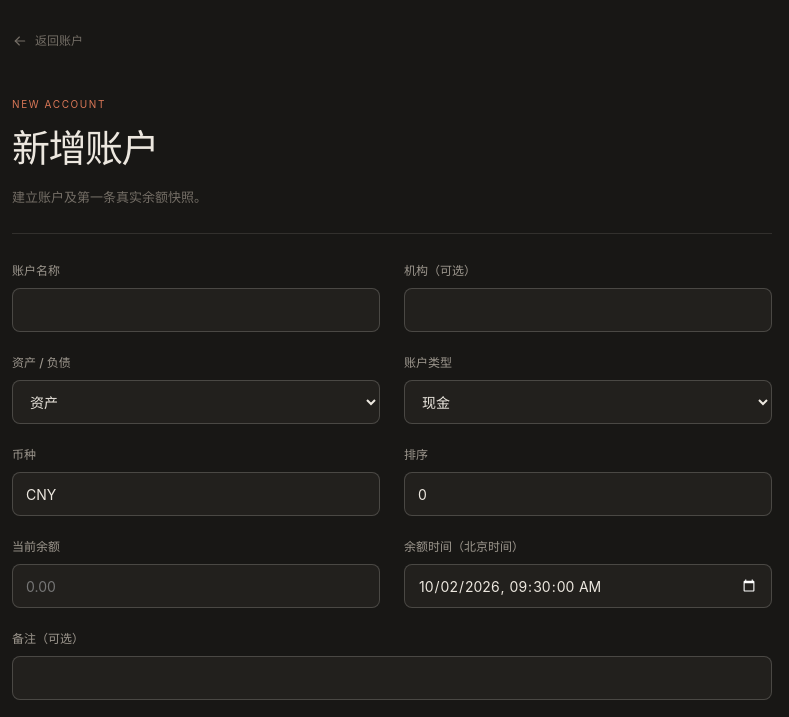
Test: account management UI › catches a rejected create transport and replays the frozen first payload
This screenshot has width=789, height=717.
Type "首次名称" into the field labelled "账户名称" at [196, 310], box [12,288,380,332]
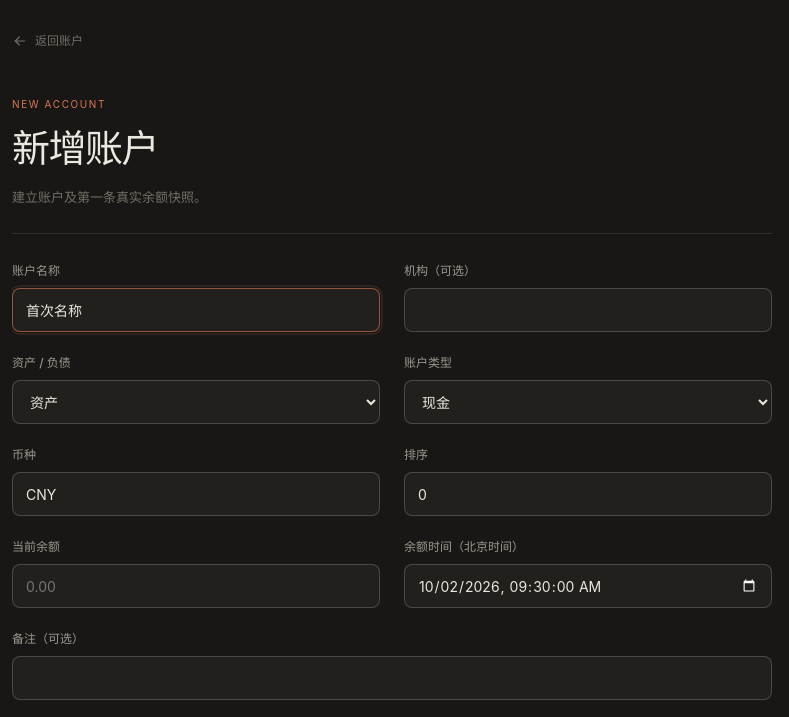
Type "1.23" into the number field labelled "当前余额" at [196, 586], box [12,564,380,608]
(page scrolled)
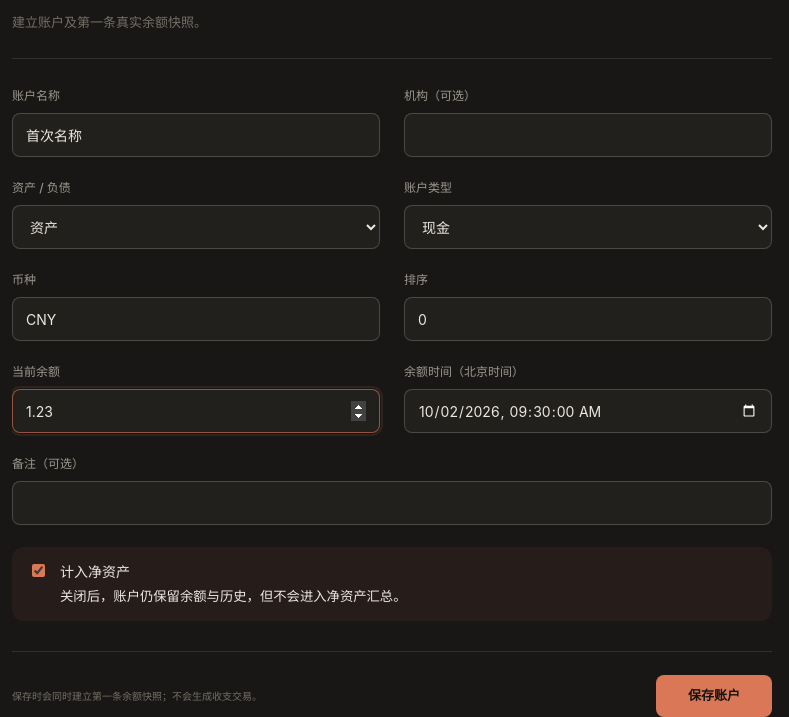
Click the button "保存账户" at [714, 696], box [656,675,772,716]
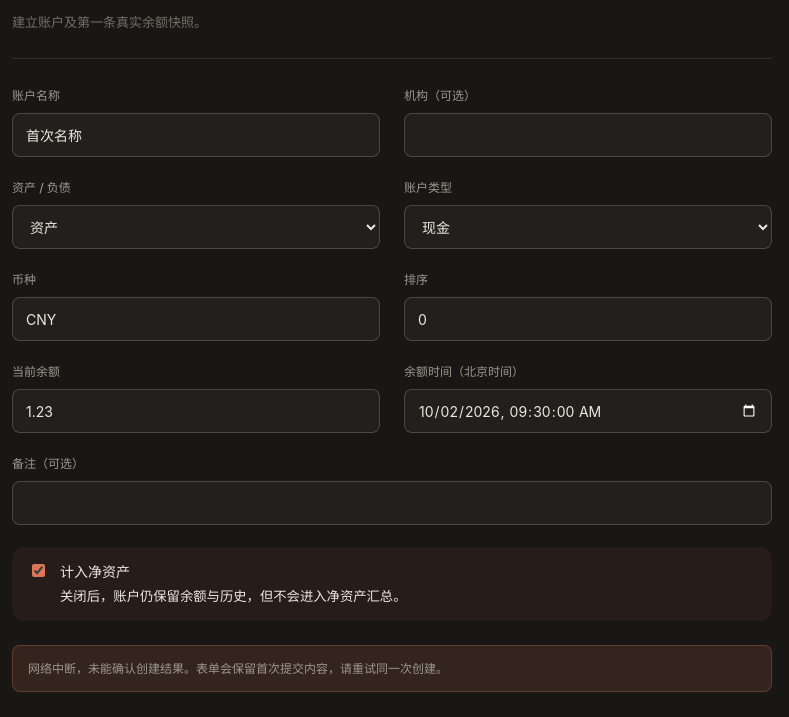
Check: the text "网络中断，未能确认创建结果。表单会保留首次提交内容，请重试同一次创建。" is shown, box [12,645,772,692]
Replace the text in the field labelled "账户名称" with "后来修改" at [196, 135], box [12,113,380,157]
(page scrolled)
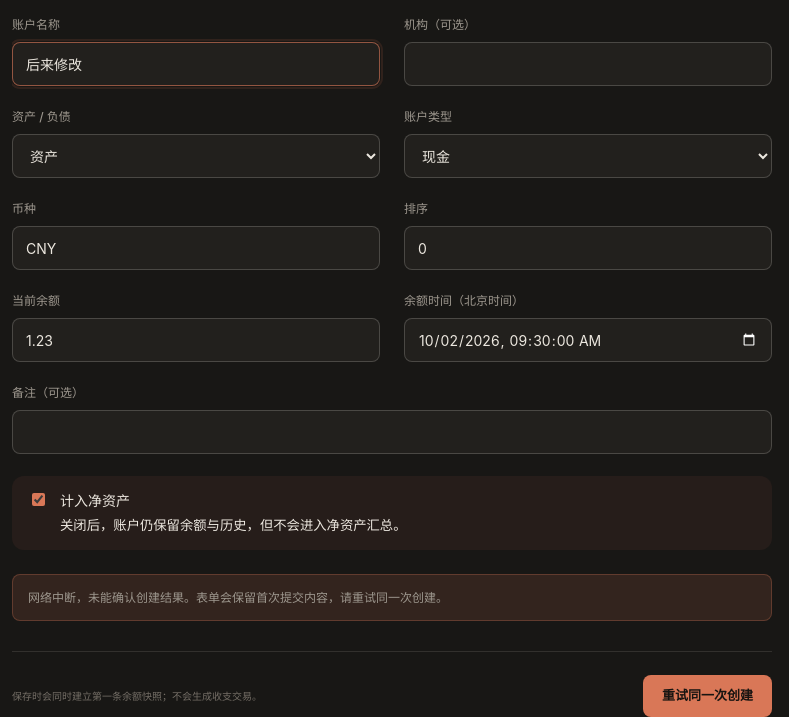
Click the button "重试同一次创建" at [708, 696], box [643,675,772,716]
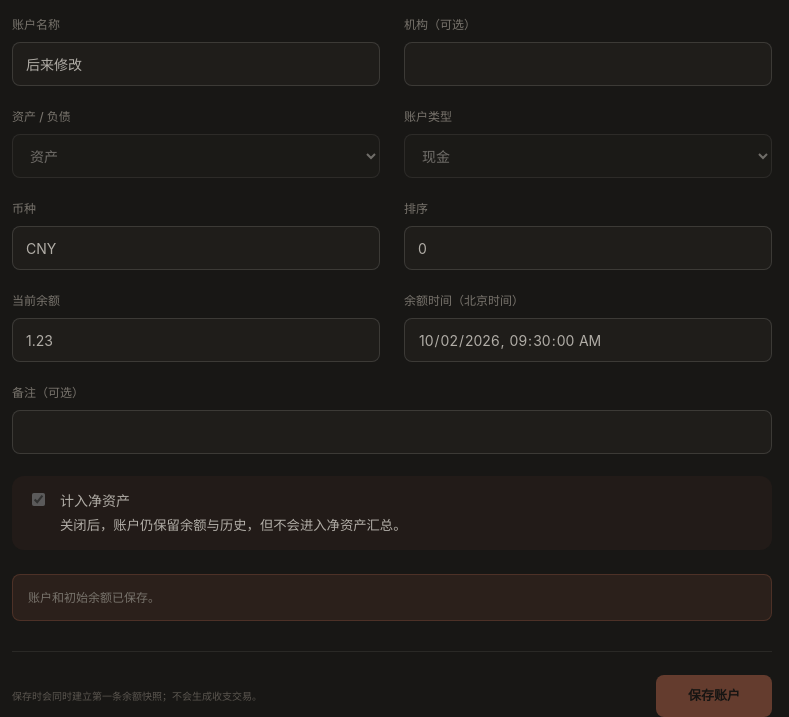
Check: the text "账户和初始余额已保存。" is shown, box [12,574,772,621]
